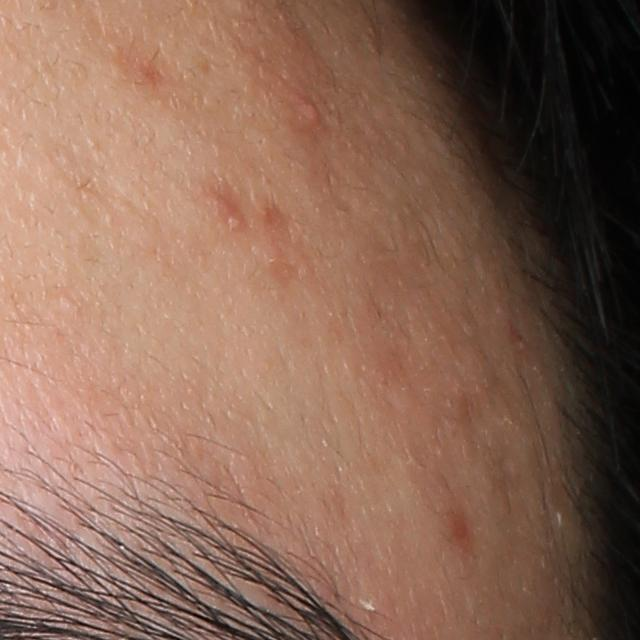papule: (203, 187, 248, 229), (298, 96, 323, 127)
